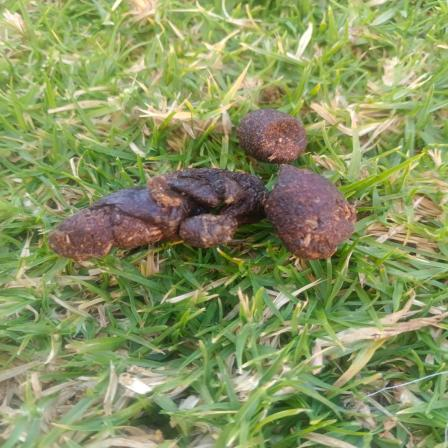dog-poop: (57, 105, 367, 281)
